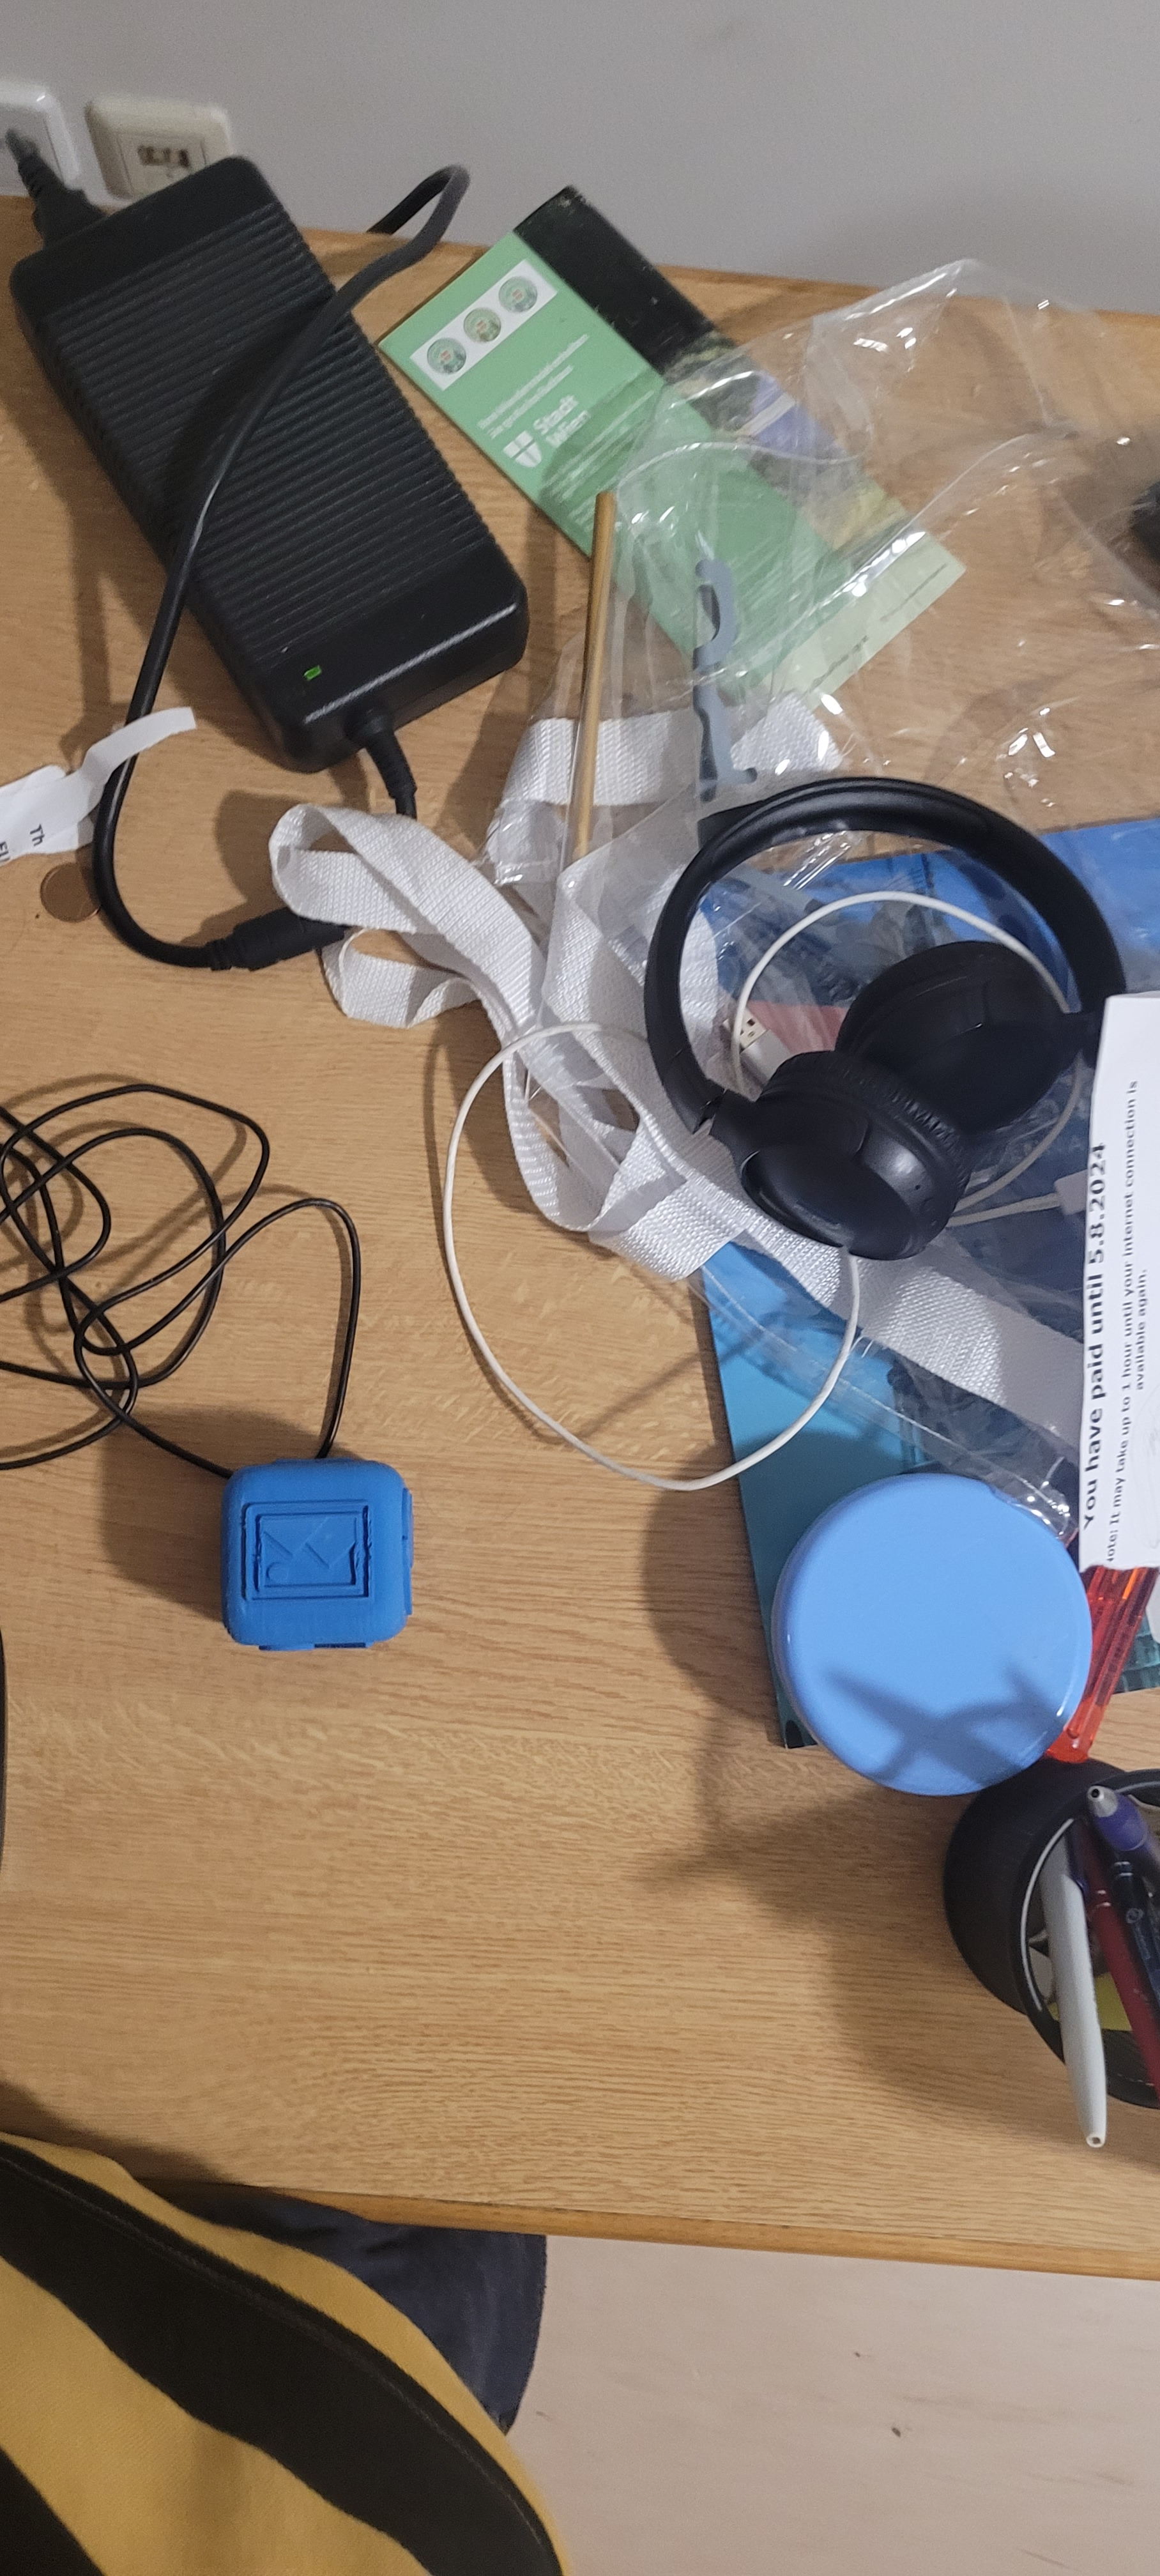Story: (222, 1480, 396, 1633)
